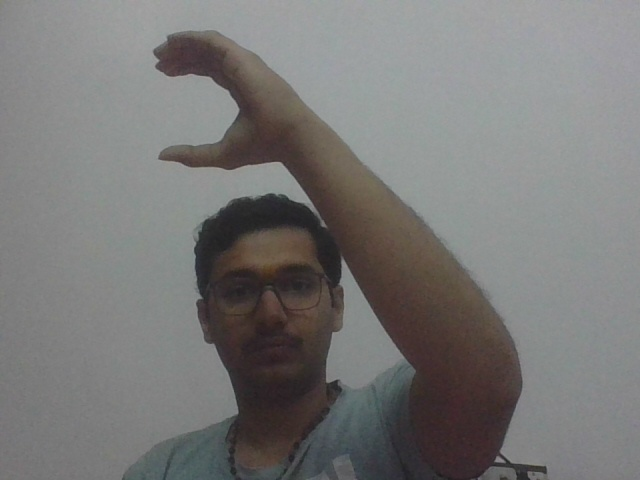C: (150, 26, 308, 179)
